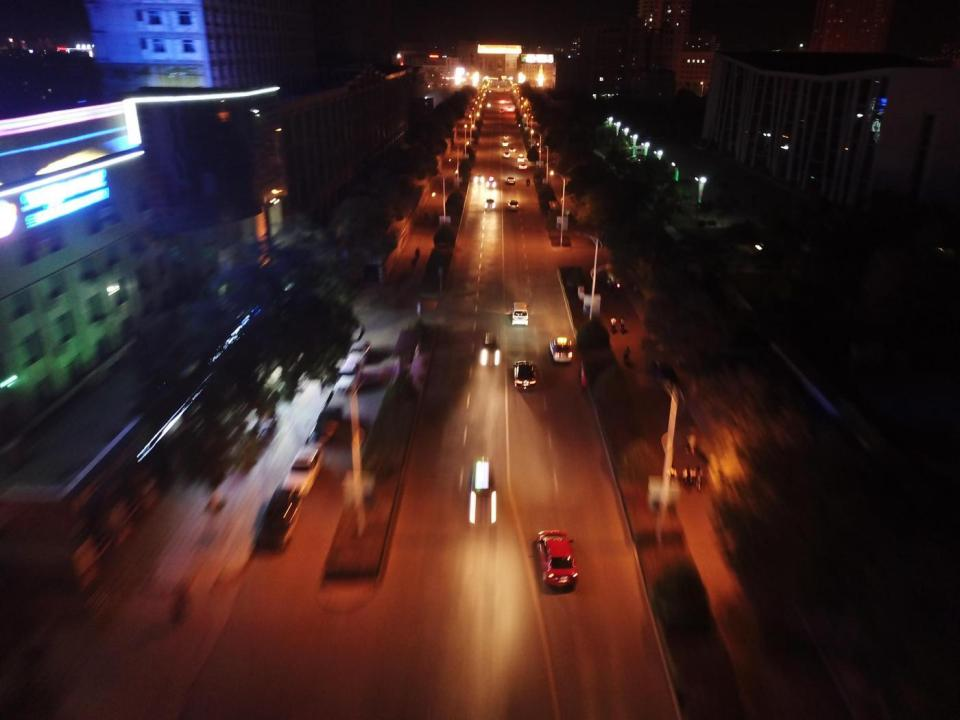bus: (691, 138, 707, 150)
car: (254, 487, 302, 550), (540, 529, 576, 590), (283, 444, 324, 495), (468, 457, 496, 524), (308, 401, 343, 443), (332, 372, 359, 405), (653, 359, 677, 389), (480, 332, 499, 365), (515, 362, 536, 391), (549, 337, 573, 362), (486, 176, 497, 187), (508, 199, 519, 210), (485, 199, 496, 208), (474, 173, 485, 181), (517, 154, 525, 161), (507, 176, 515, 183), (518, 163, 528, 168), (508, 147, 516, 153), (499, 98, 505, 104), (502, 141, 509, 146), (503, 152, 510, 157), (441, 81, 448, 86), (502, 134, 509, 138), (504, 87, 509, 92), (506, 99, 511, 103), (508, 106, 512, 111), (499, 109, 505, 112)
van: (338, 340, 370, 377), (511, 302, 528, 325), (624, 143, 645, 156)
